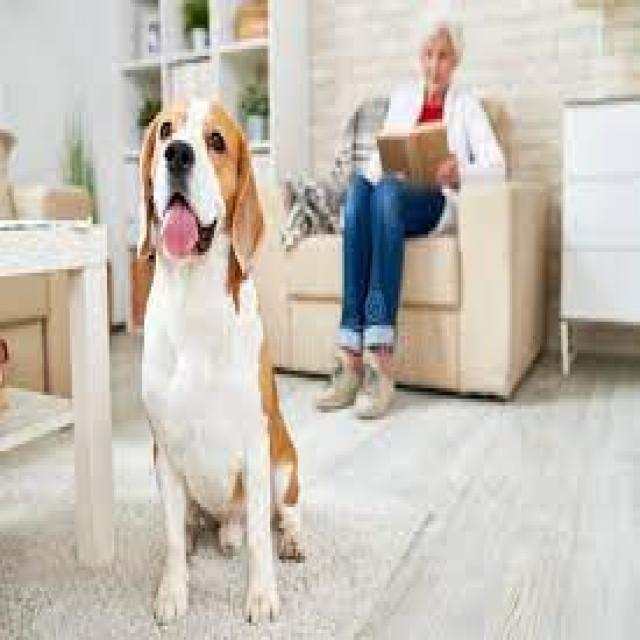Dog: (134, 94, 306, 630)
